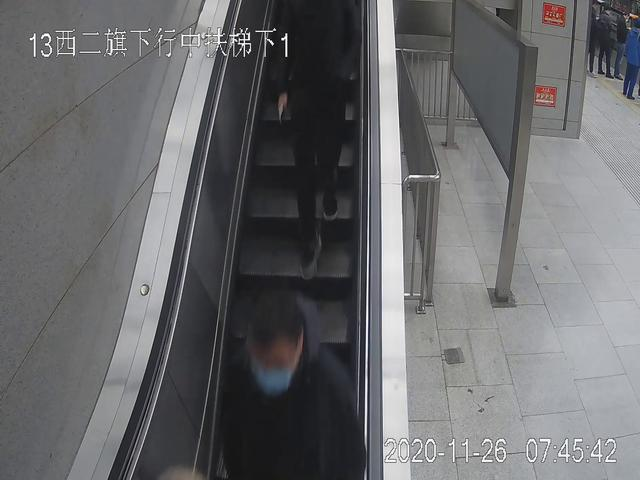person: (221, 292, 364, 480), (275, 1, 355, 278), (622, 20, 640, 100), (597, 7, 617, 78)
